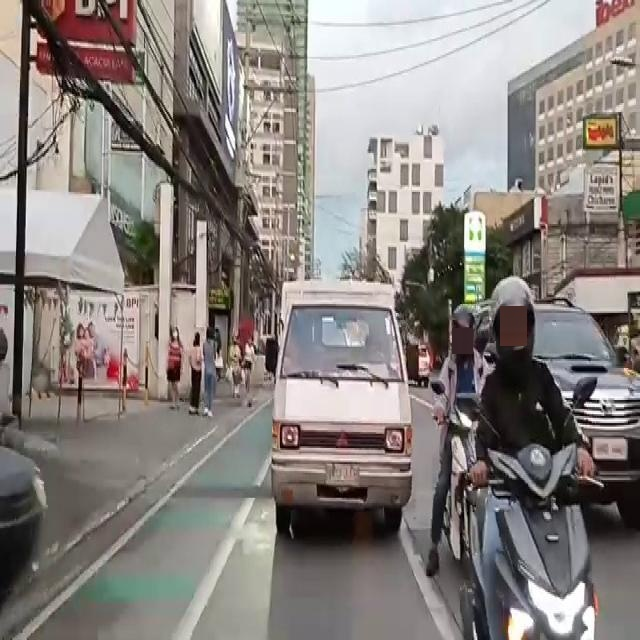car: (274, 286, 408, 550)
motorcycle: (480, 275, 587, 640), (451, 322, 486, 570)
